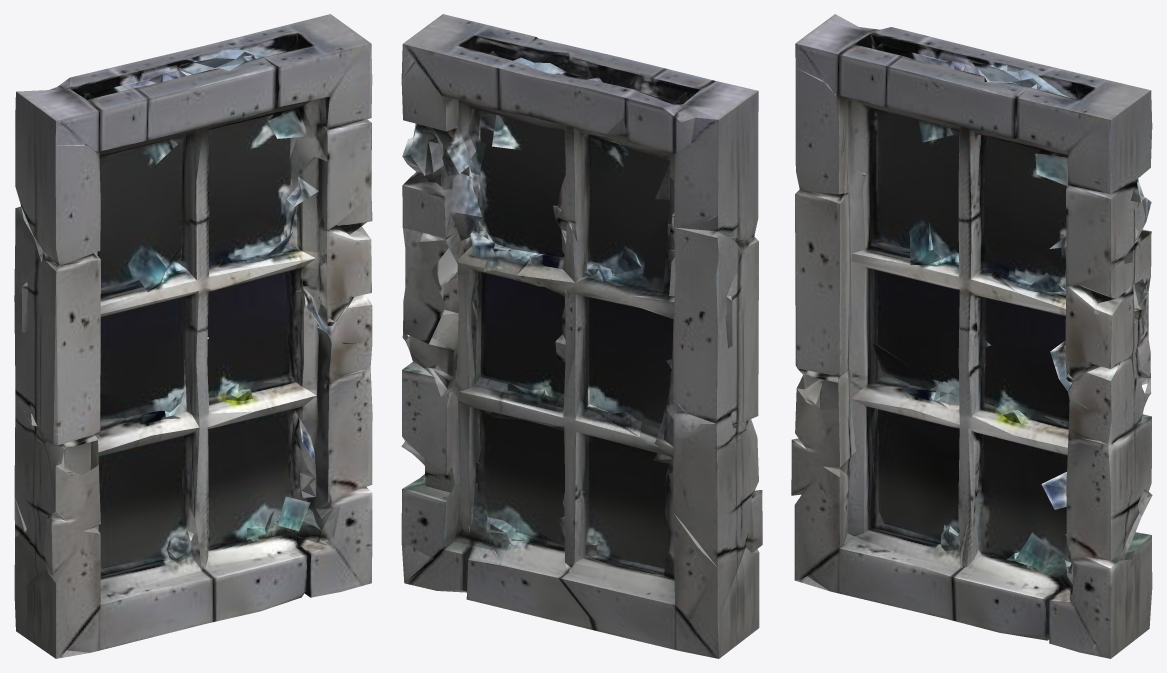
Rendered from debris_facade_windows.glb.
3 views of the same model, side by side, from view 1: azimuth 30°, elevation 25°; view 2: azimuth 150°, elevation 25°; view 3: azimuth 330°, elevation 25° (orthographic).
Parts seen in each view (by area): view 1: debris_facade_windows; view 2: debris_facade_windows; view 3: debris_facade_windows.
Part boxes in pixels (left/top/right/bottom): debris_facade_windows: left=14, top=14, right=372, bottom=658; debris_facade_windows: left=401, top=14, right=762, bottom=658; debris_facade_windows: left=791, top=14, right=1152, bottom=658.
Bounding box in the file's own units: 3 × 4.78 × 0.7102.
1 material, 1 textured.
